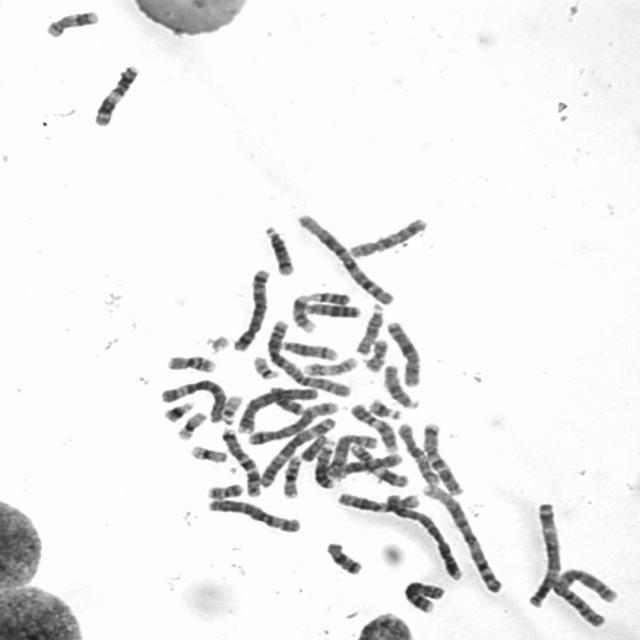A1: (294, 209, 398, 307), (418, 480, 507, 594)
A2: (262, 315, 354, 399), (548, 564, 622, 629)
A3: (254, 408, 340, 490), (523, 498, 565, 609)
B4: (382, 488, 466, 582), (233, 382, 320, 435)
B5: (244, 398, 339, 446), (229, 264, 272, 352)
C10: (344, 214, 430, 260), (395, 419, 443, 486)
C11: (90, 61, 141, 128), (345, 442, 411, 488)
C12: (328, 450, 404, 480), (334, 489, 422, 514)
C6: (204, 495, 304, 534), (156, 374, 228, 425)
C7: (417, 418, 465, 497), (218, 424, 263, 498)
C8: (324, 431, 378, 480), (400, 576, 448, 614)
C9: (347, 398, 402, 454), (291, 290, 355, 333)
D13: (311, 436, 337, 490), (300, 300, 363, 318)
D14: (260, 222, 297, 277), (276, 337, 340, 362)
D15: (380, 360, 423, 410), (352, 300, 386, 356)
E16: (164, 351, 219, 374), (279, 451, 303, 499)
E17: (42, 6, 101, 39), (300, 353, 361, 377)
E18: (322, 538, 364, 576), (267, 383, 308, 416)
F19: (174, 408, 208, 442), (187, 442, 230, 464)
F20: (360, 335, 390, 373), (203, 480, 246, 500)
G21: (365, 394, 404, 421), (160, 398, 196, 423)
G22: (217, 390, 244, 426), (249, 352, 282, 380)
X: (384, 317, 425, 388)
Y: (298, 430, 332, 463)
